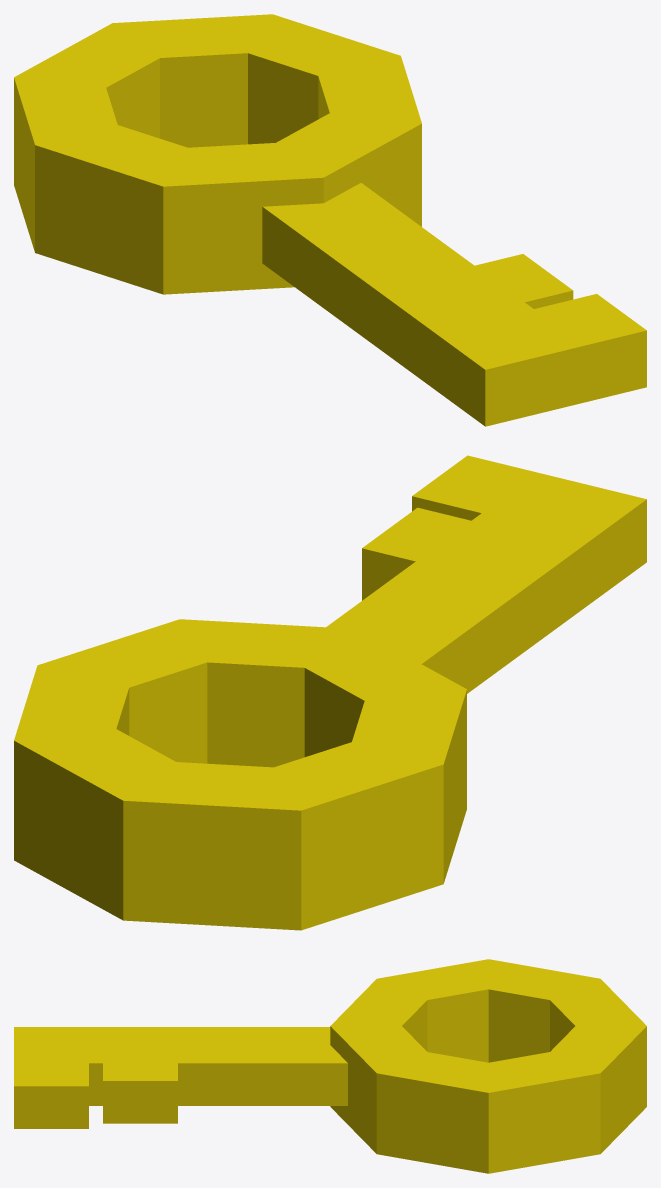
The model's file is Yellow Key.fbx.
3 views of the same model, one above another, from view 1: azimuth 30°, elevation 25°; view 2: azimuth 150°, elevation 25°; view 3: azimuth 270°, elevation 25° (orthographic). The views are drawn at different scales.
Visible parts, largest first — view 1: Cylinder; view 2: Cylinder; view 3: Cylinder.
Boxes of the visible parts, left/top/right/bottom form: Cylinder: left=14, top=14, right=646, bottom=426; Cylinder: left=14, top=455, right=646, bottom=930; Cylinder: left=14, top=959, right=646, bottom=1173.
Bounding box in the file's own units: 0.3973 × 0.7944 × 0.112.
